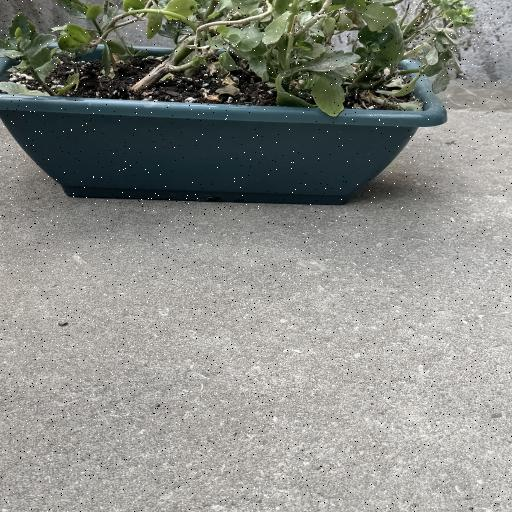Plant Pot: (0, 43, 447, 210)
